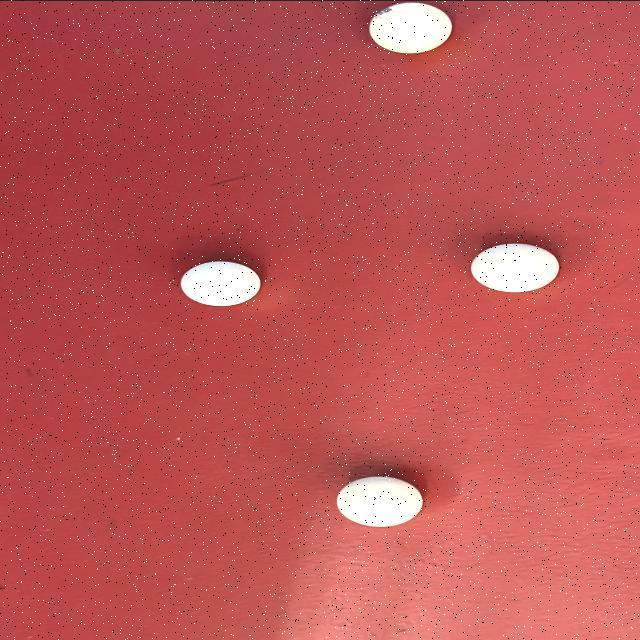ping-pong-ball: (329, 457, 440, 537), (457, 232, 572, 306), (166, 252, 280, 318), (354, 0, 464, 61)
